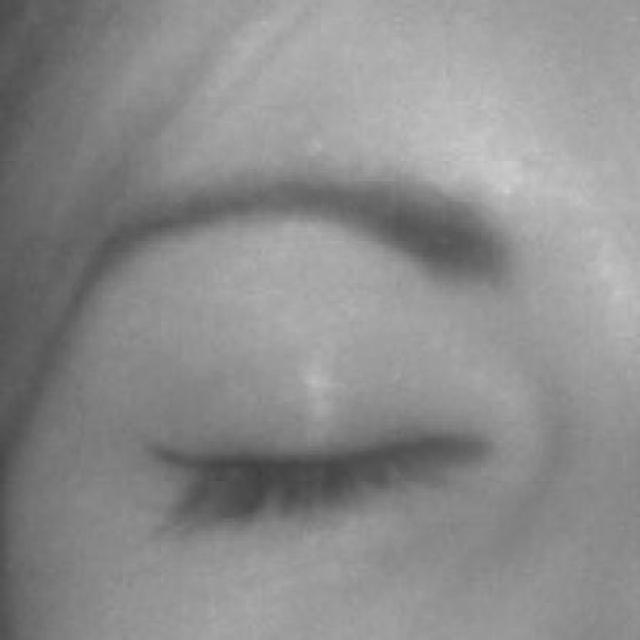drowsy: (135, 296, 492, 630)
